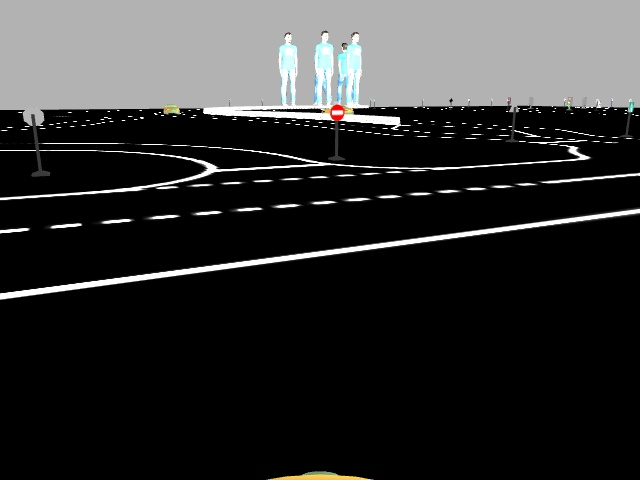NoEntry: (327, 105, 346, 121)
